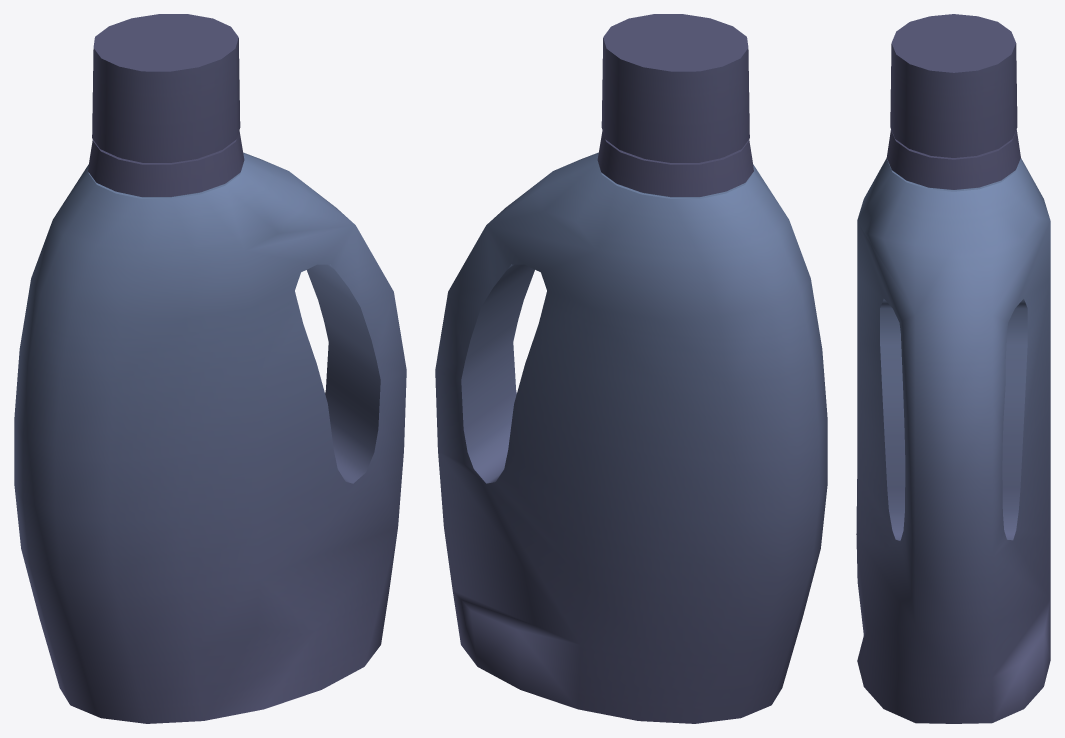
The model's file is detergent_blue.fbx.
3 renders of one model, left to right at view 1: azimuth 30°, elevation 25°; view 2: azimuth 150°, elevation 25°; view 3: azimuth 270°, elevation 25°, orthographic. The views are drawn at different scales.
Visible parts, largest first — view 1: detergent_blue; view 2: detergent_blue; view 3: detergent_blue.
Boxes of the visible parts, x1,y1,x2,y2 form: detergent_blue: (14, 14, 406, 723); detergent_blue: (435, 14, 827, 723); detergent_blue: (856, 14, 1050, 723).
Bounding box in the file's own units: 218 × 363 × 107.
